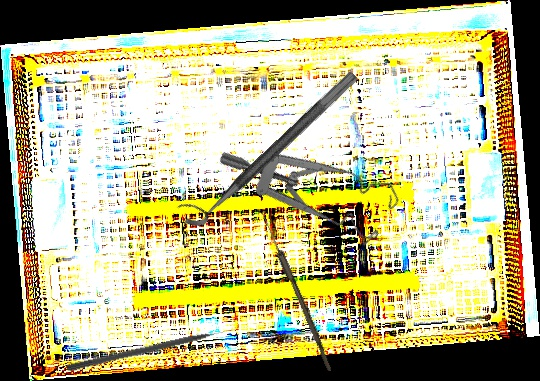Fixation Ring: (172, 56, 360, 235)
Pusher: (66, 325, 237, 374)
Speculum: (215, 86, 411, 276)
Surgical Spoon: (257, 210, 336, 372)
